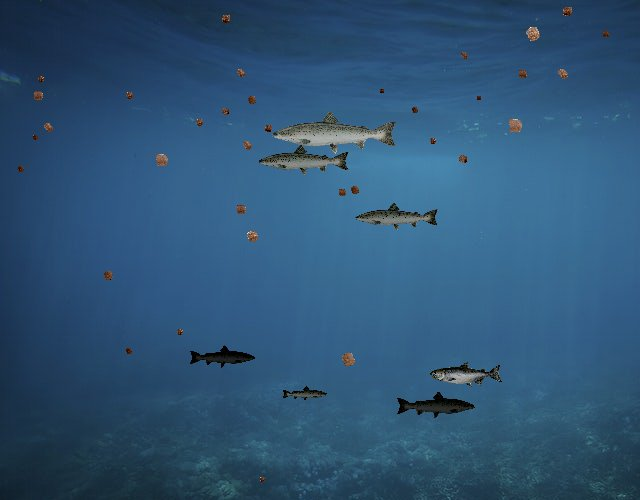Fish: (270, 109, 399, 155), (257, 143, 351, 177), (354, 201, 440, 232), (395, 391, 476, 420), (430, 361, 503, 388), (189, 344, 257, 369), (282, 385, 329, 402)
Pellet: (240, 224, 265, 249), (172, 325, 187, 340), (122, 344, 136, 358), (426, 134, 440, 148), (34, 72, 48, 86), (256, 473, 268, 485)
